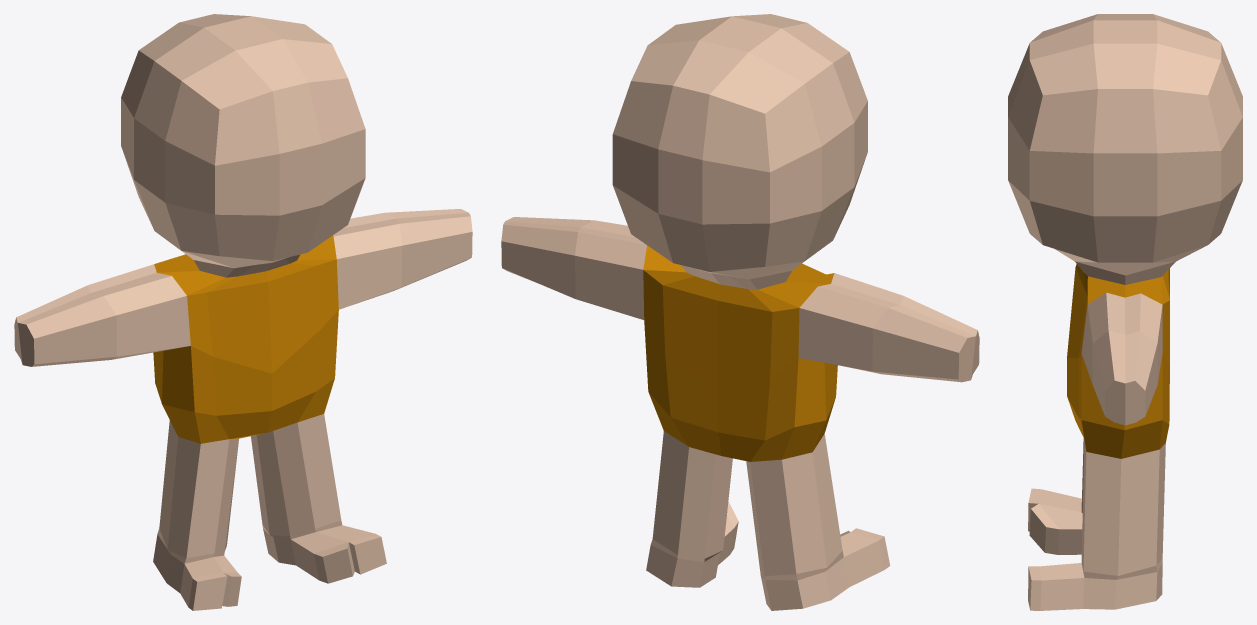
The model's file is monk_better.fbx.
The picture shows the model from 3 angles, left to right: view 1: azimuth 30°, elevation 25°; view 2: azimuth 150°, elevation 25°; view 3: azimuth 270°, elevation 25°; orthographic projection. The views are drawn at different scales.
Parts seen in each view (by area): view 1: Cube; view 2: Cube; view 3: Cube.
Boxes of the visible parts, x1,y1,x2,y2 form: Cube: (14,14,472,610); Cube: (501,14,979,610); Cube: (1008,14,1242,610).
Bounding box in the file's own units: 8.73 × 9.87 × 3.85.
